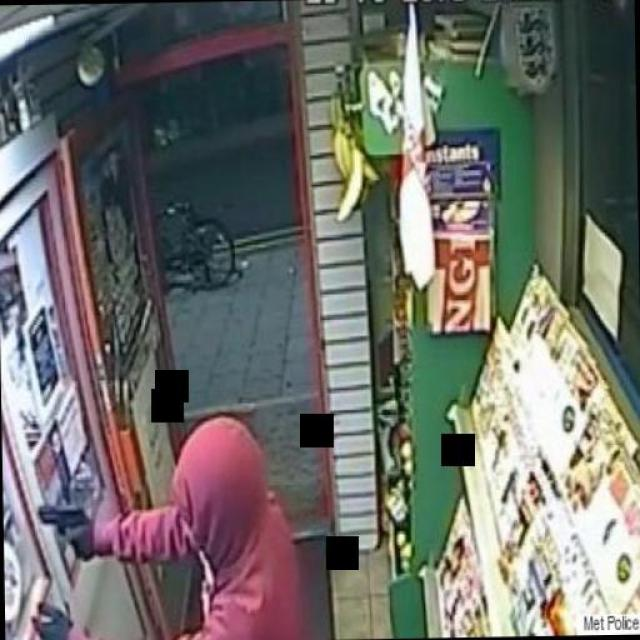gun: (36, 501, 95, 565)
